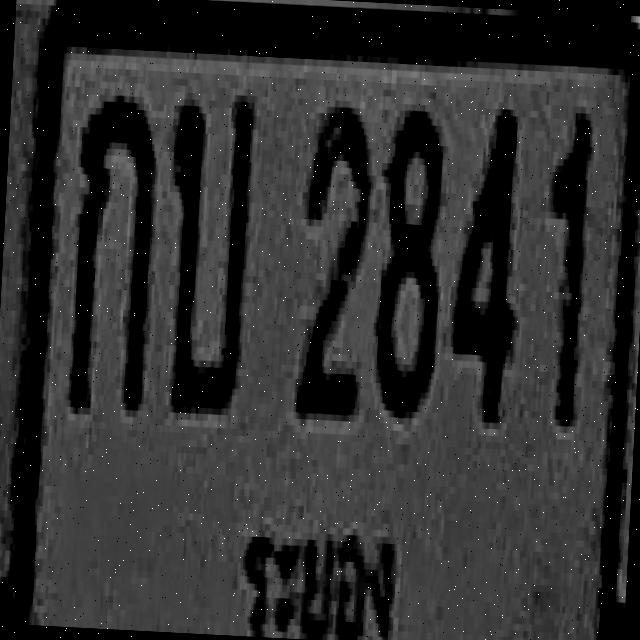1: (538, 112, 592, 427)
10GorGai: (66, 90, 158, 414)
2: (296, 99, 374, 415)
35BorBaiMai: (160, 92, 256, 416)
4: (448, 100, 525, 423)
8: (372, 103, 447, 419)
Rayong: (229, 502, 412, 640)
